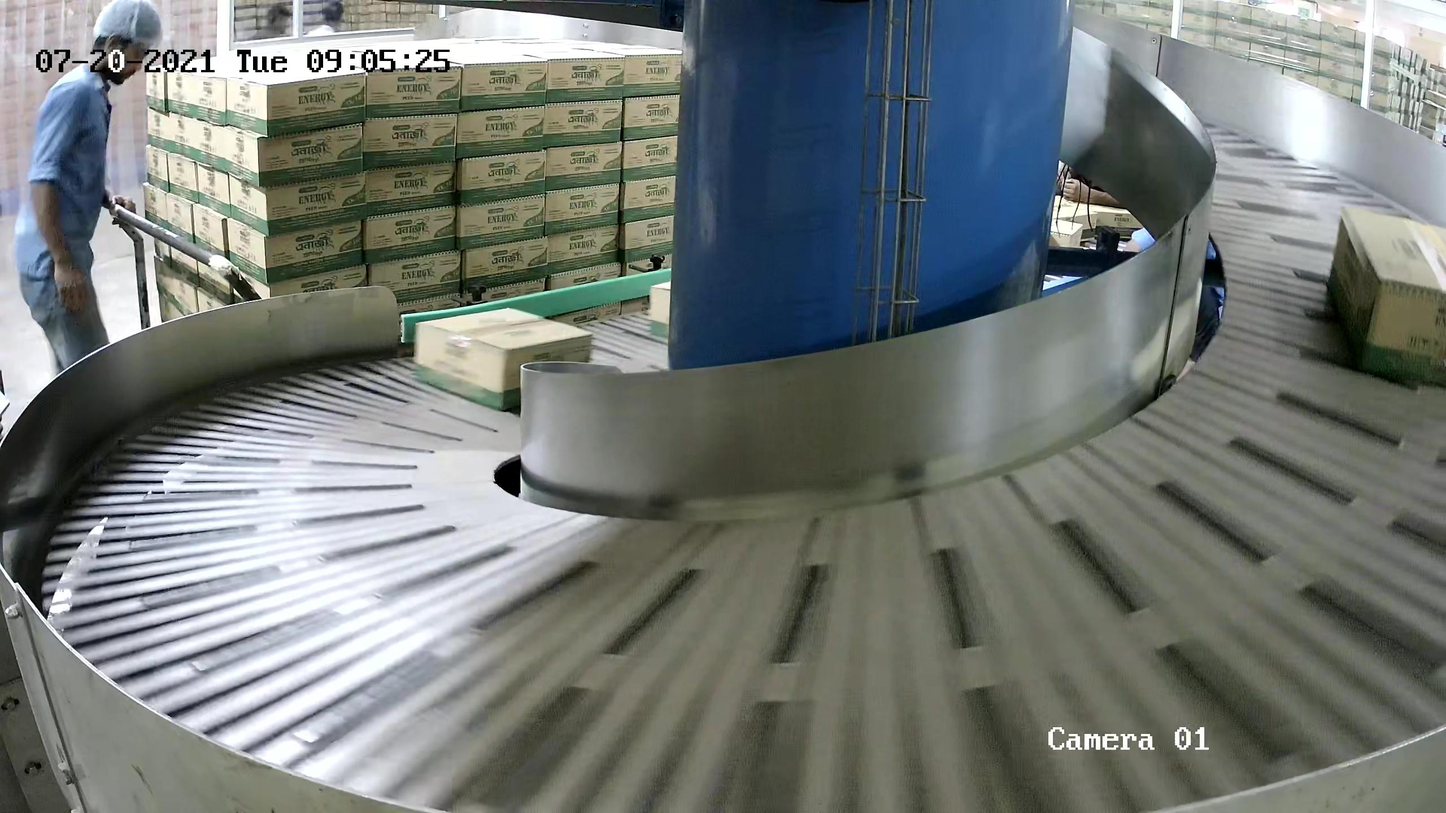Box: (1325, 203, 1446, 387), (412, 306, 595, 412), (648, 279, 671, 339)
